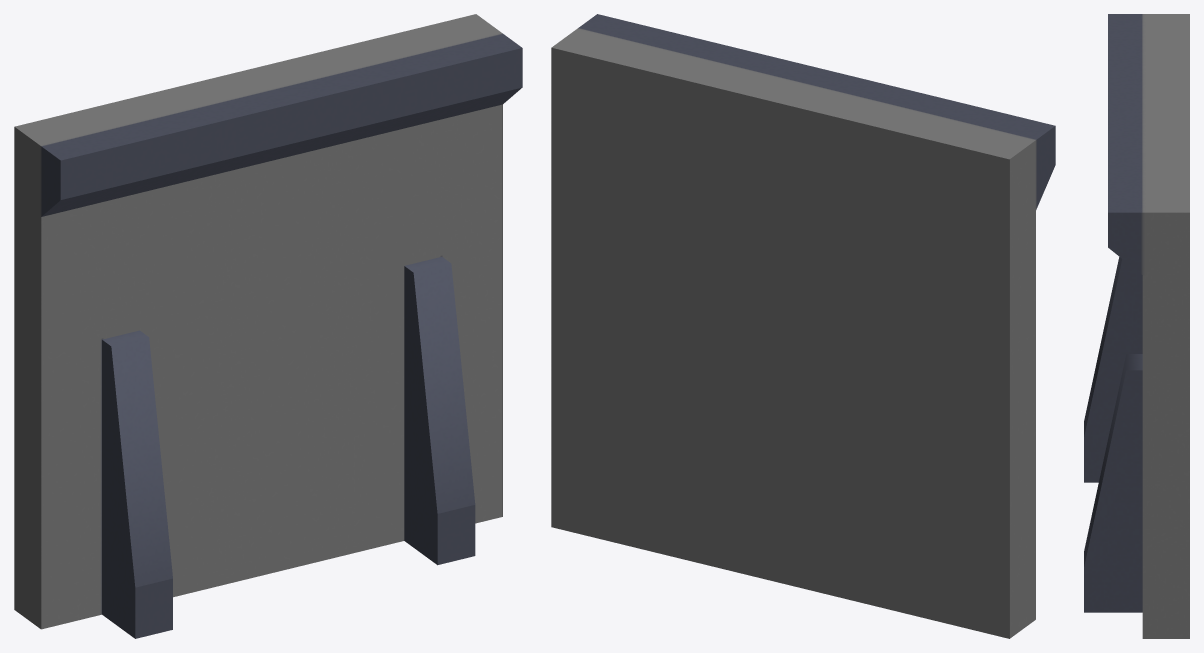
Rendered from Wall.fbx.
3 renders of one model, left to right at view 1: azimuth 30°, elevation 25°; view 2: azimuth 150°, elevation 25°; view 3: azimuth 270°, elevation 25°, orthographic. The views are drawn at different scales.
Visible parts, largest first — view 1: Wall; view 2: Wall; view 3: Wall.
Part boxes in pixels (x1=…): Wall: x1=14, y1=14, x2=522, y2=638; Wall: x1=551, y1=14, x2=1055, y2=638; Wall: x1=1084, y1=14, x2=1189, y2=638.
Bounding box in the file's own units: 500 × 500 × 113.
Materials: 1 (1 with a texture image).
